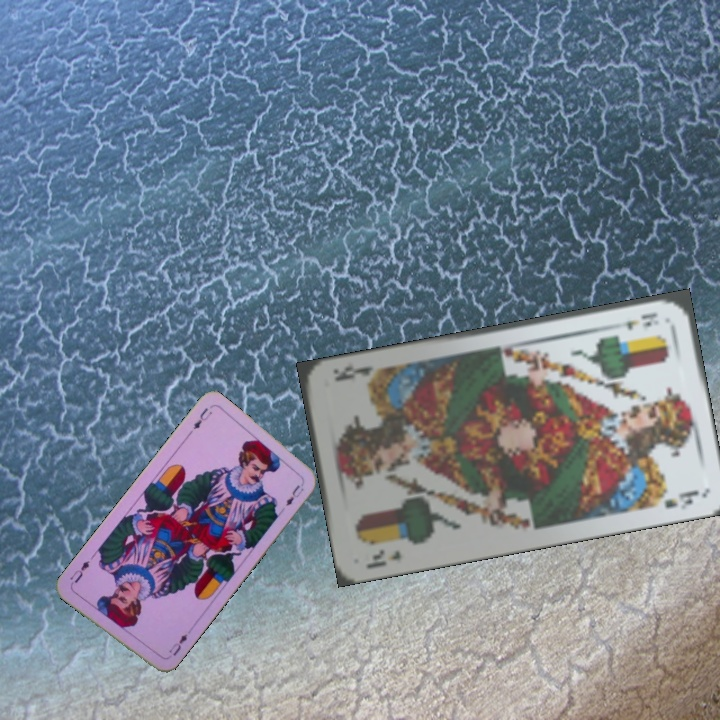EK: (609, 309, 660, 333), (362, 546, 404, 571)
EU: (184, 403, 215, 438), (162, 630, 190, 662)
